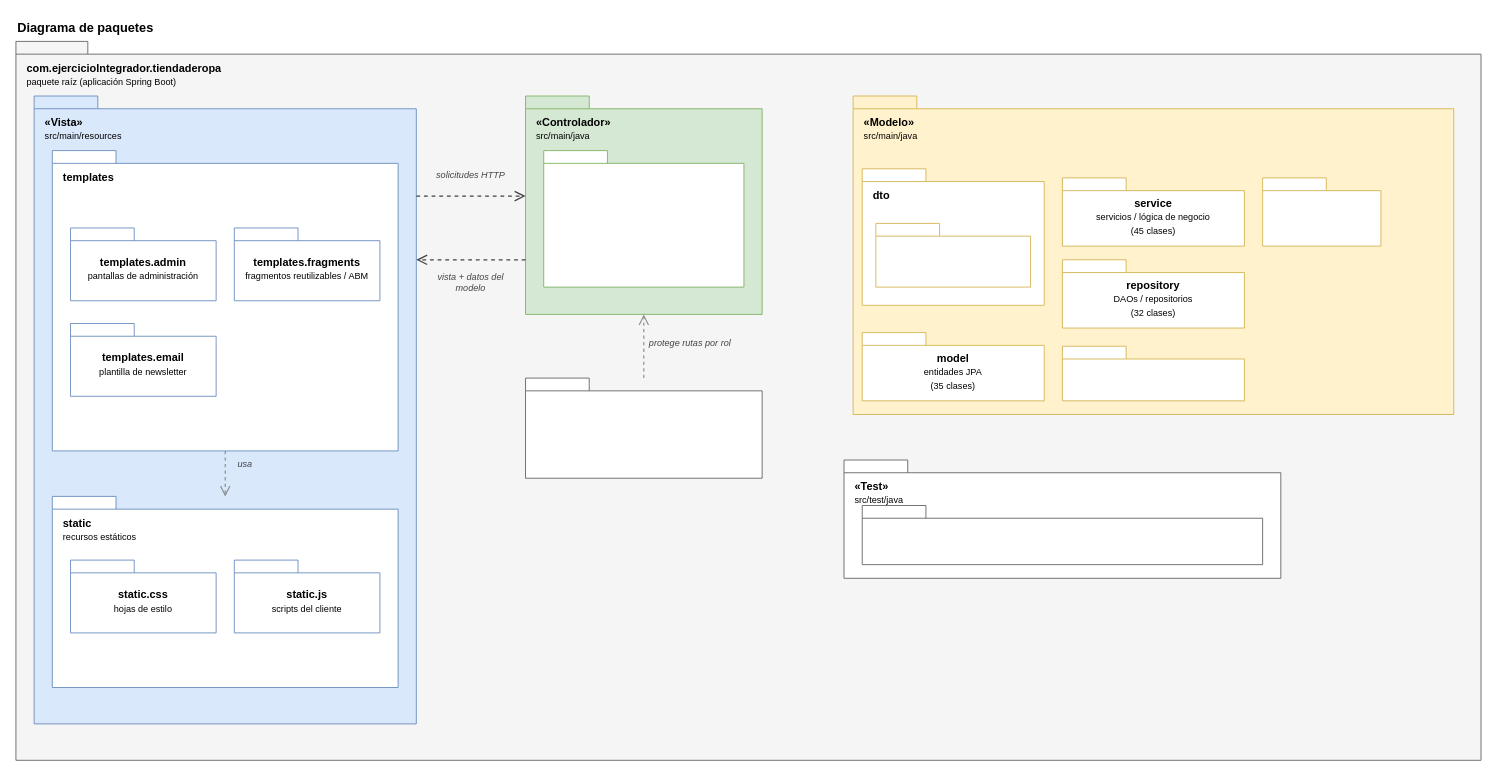
Some shapes in this 1497 by 776 pixel diagram are drawn without their labels. The centre of each missing label's shape, as x and y in pixels:
config seguridad (Spring Security) (1 clase): point (643, 427)
controller controladores MVC y de formularios (55 clases): point (643, 218)
dto.reportes: point (953, 254)
enumeraciones enums de dominio (9 clases): point (1153, 373)
exceptions excepciones (1 clase): point (1321, 211)
tiendaderopa.service pruebas unitarias de servicios (+ prueba de arranque): point (1062, 535)
